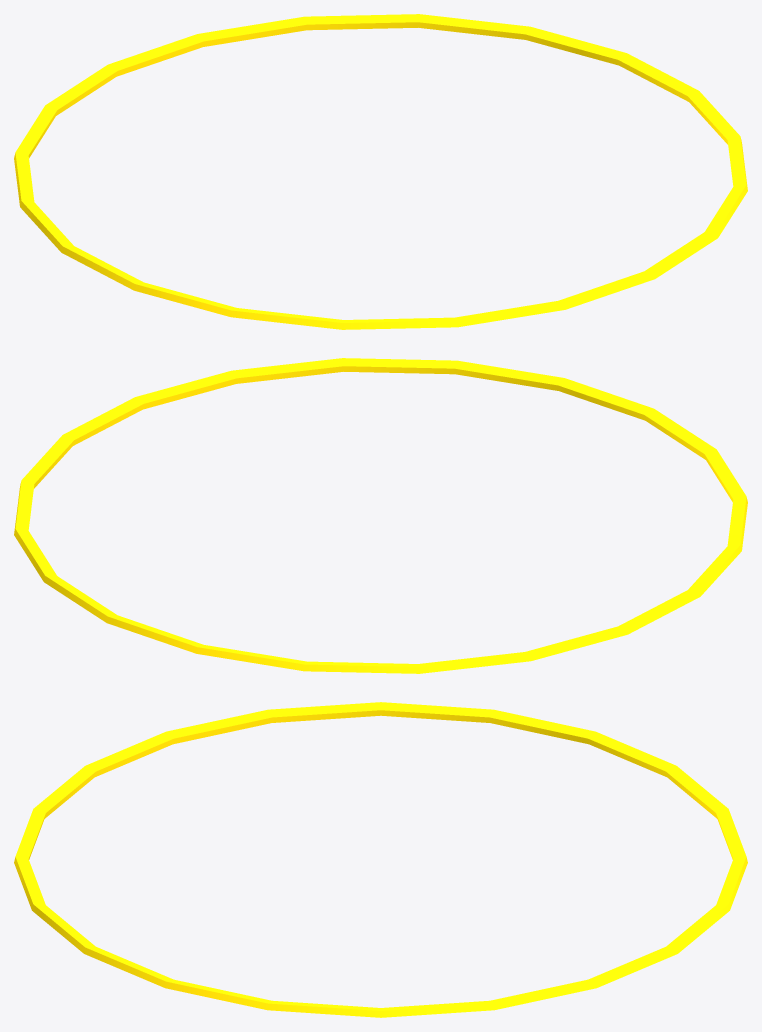
The model's file is light_0.fbx.
The picture shows the model from 3 angles, top to bottom: view 1: azimuth 30°, elevation 25°; view 2: azimuth 150°, elevation 25°; view 3: azimuth 270°, elevation 25°; orthographic projection.
Visible parts, largest first — view 1: light_0; view 2: light_0; view 3: light_0.
Boxes of the visible parts, box(x1,y1,x2,y2) form: light_0: box(14, 14, 747, 329); light_0: box(14, 358, 747, 673); light_0: box(14, 702, 747, 1017).
Size of the model in its own units: 4.16 by 0.0545 by 4.16.
